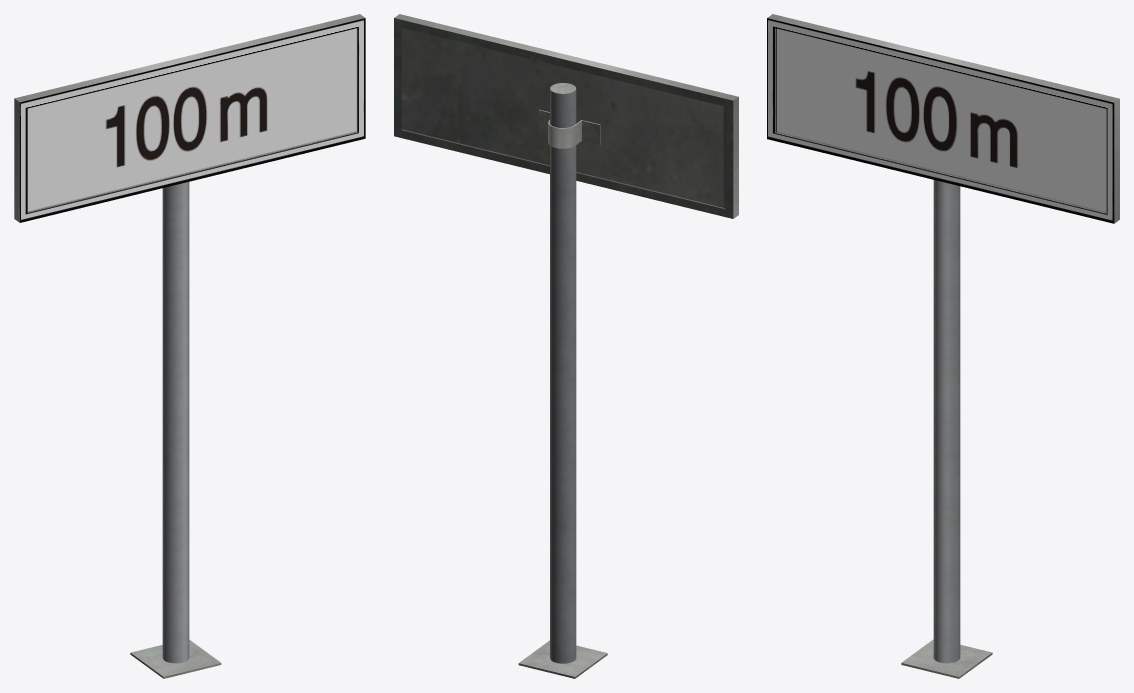
3 renders of one model, left to right at view 1: azimuth 30°, elevation 25°; view 2: azimuth 150°, elevation 25°; view 3: azimuth 330°, elevation 25°, orthographic. The views are drawn at different scales.
Visible parts, largest first — view 1: MainBuilding; view 2: MainBuilding; view 3: MainBuilding.
Boxes of the visible parts, bbox=[...] form: MainBuilding: bbox=[14, 14, 365, 678]; MainBuilding: bbox=[394, 14, 738, 678]; MainBuilding: bbox=[767, 14, 1119, 678].
Bounding box in the file's own units: 0.9 × 1.51 × 0.15.
Materials: 1 (1 with a texture image).
